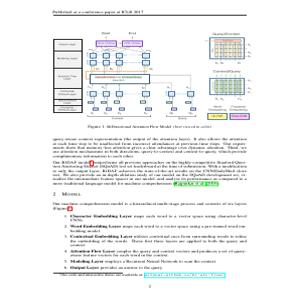diagram: (43, 29, 255, 124)
text: (45, 133, 254, 284)
